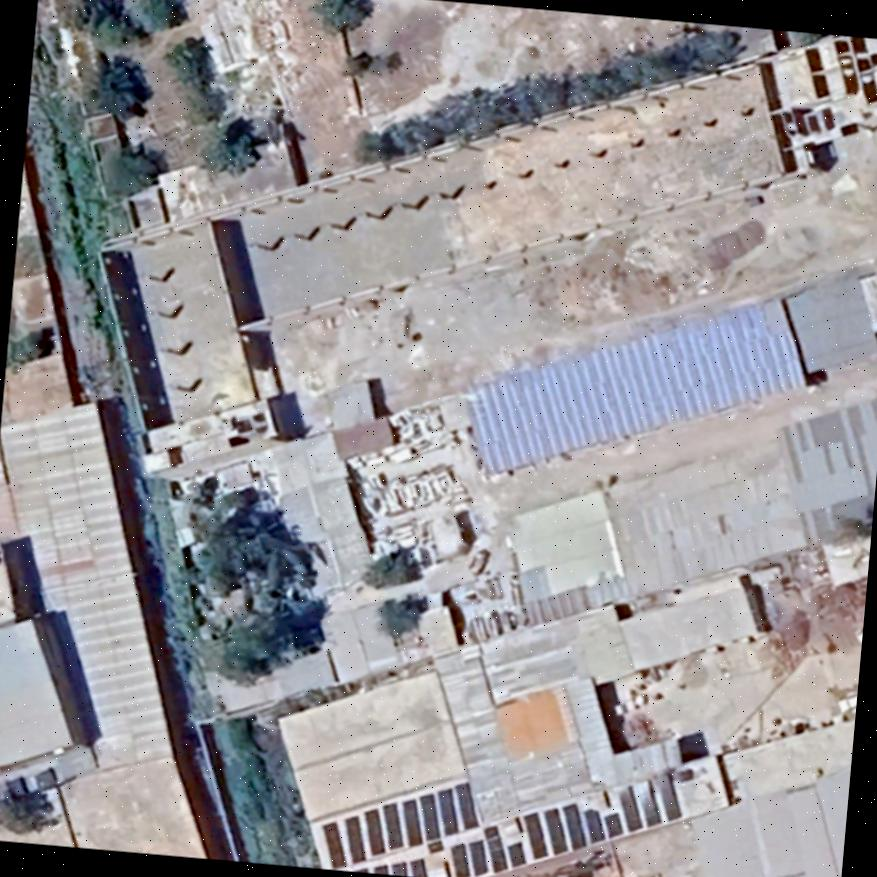Solarpanel: (316, 742, 701, 877)
